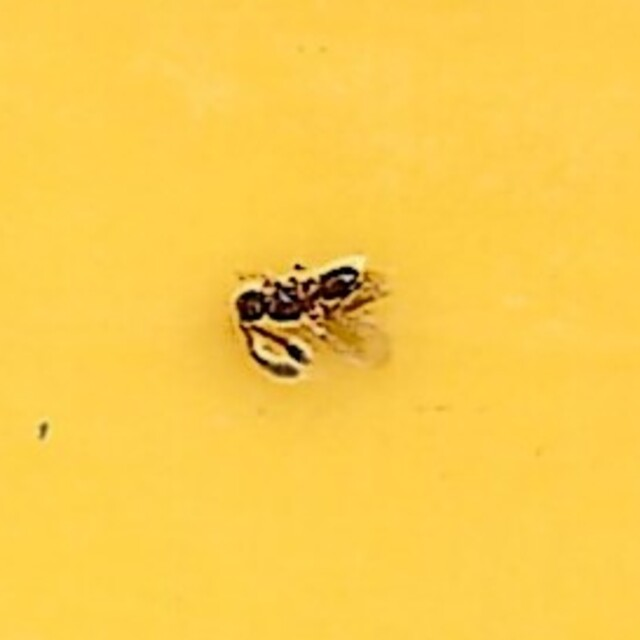Hymenoptera: (234, 252, 406, 388)
